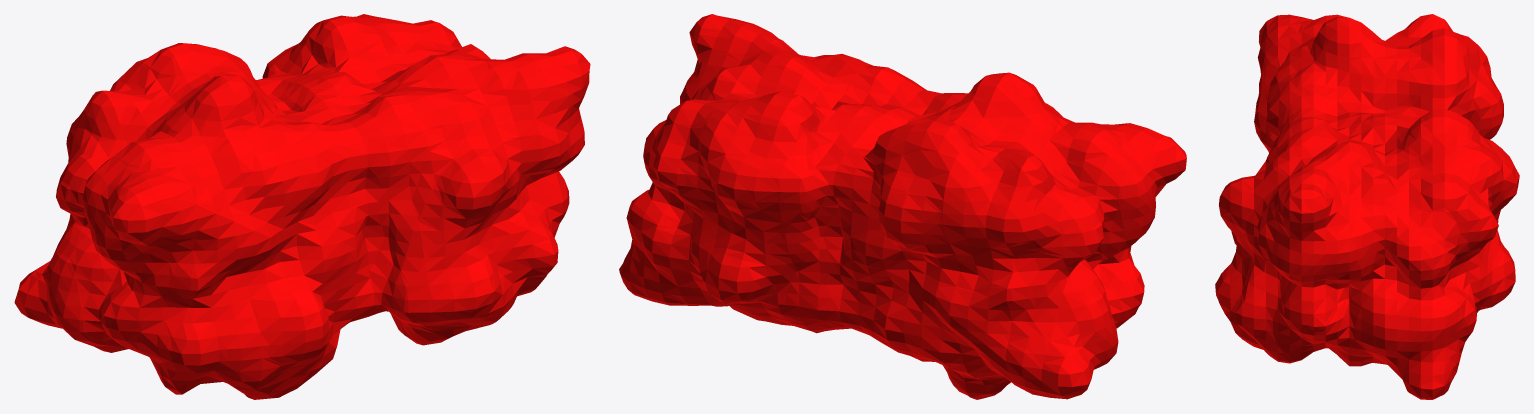
Rendered from metK_coarse.dae.
The picture shows the model from 3 angles, left to right: view 1: azimuth 30°, elevation 25°; view 2: azimuth 150°, elevation 25°; view 3: azimuth 270°, elevation 25°; orthographic projection. The views are drawn at different scales.
Visible parts, largest first — view 1: metK; view 2: metK; view 3: metK.
Part boxes in pixels (x1,y1,x2,y2): metK: (14,14,590,399); metK: (619,14,1186,399); metK: (1215,14,1519,399).
Bounding box in the file's own units: 122 × 73.37 × 72.7.
